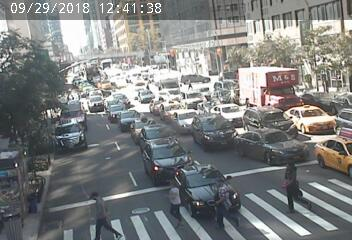car: (239, 74, 299, 117), (247, 129, 307, 163), (176, 166, 221, 204), (138, 141, 182, 171), (193, 109, 229, 142), (294, 105, 333, 134), (314, 139, 352, 167), (252, 109, 288, 130), (59, 97, 91, 120), (58, 127, 94, 147), (180, 89, 209, 105), (170, 108, 194, 127), (219, 104, 244, 120), (88, 90, 107, 109), (152, 75, 175, 90), (130, 118, 149, 135), (107, 98, 124, 114), (141, 127, 161, 140), (118, 109, 136, 123), (146, 103, 167, 113), (161, 103, 177, 114), (138, 88, 152, 98)
